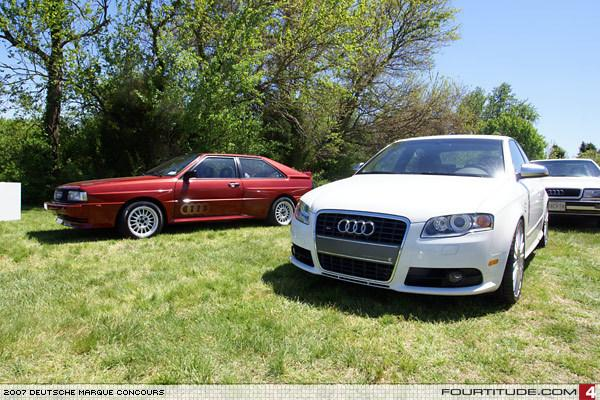car: (286, 132, 553, 305), (34, 133, 311, 235), (537, 153, 600, 222)
